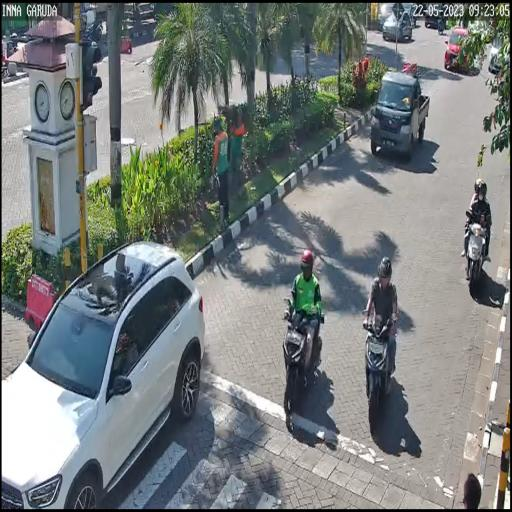mobil: (0, 249, 208, 505), (369, 70, 428, 165)
motor: (278, 284, 326, 423), (356, 293, 401, 434), (458, 195, 496, 298)
